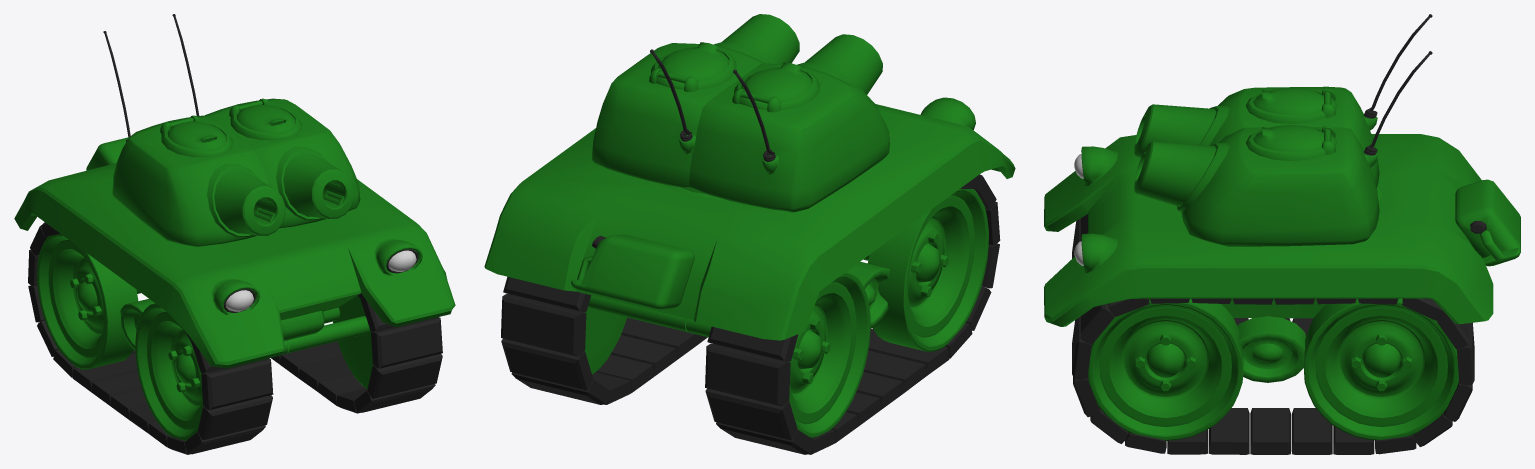
The model's file is Apocolypse.FBX.
The picture shows the model from 3 angles, left to right: view 1: azimuth 30°, elevation 25°; view 2: azimuth 150°, elevation 25°; view 3: azimuth 270°, elevation 25°; orthographic projection. The views are drawn at different scales.
Visible parts, largest first — view 1: TankChassis, TankTracksRight, TankTurret, TankTracksLeft, TankTurret001; view 2: TankChassis, TankTracksRight, TankTurret, TankTracksLeft, TankTurret001; view 3: TankChassis, TankTracksLeft, TankTurret001, TankTurret, TankTracksRight.
Part boxes in pixels (<box>): TankChassis: <box>14,137,455,368</box>; TankTracksRight: <box>28,222,288,454</box>; TankTurret: <box>103,31,285,246</box>; TankTracksLeft: <box>271,293,442,413</box>; TankTurret001: <box>172,14,360,228</box>; TankChassis: <box>484,97,1015,340</box>; TankTracksRight: <box>686,174,1000,454</box>; TankTurret: <box>689,34,889,212</box>; TankTracksLeft: <box>501,276,707,404</box>; TankTurret001: <box>592,14,799,187</box>; TankChassis: <box>1044,134,1520,382</box>; TankTracksLeft: <box>1072,298,1474,454</box>; TankTurret001: <box>1134,51,1432,246</box>; TankTurret: <box>1134,14,1432,188</box>; TankTracksRight: <box>1072,214,1313,335</box>.
Size of the model in its own units: 108 by 125 by 155.
